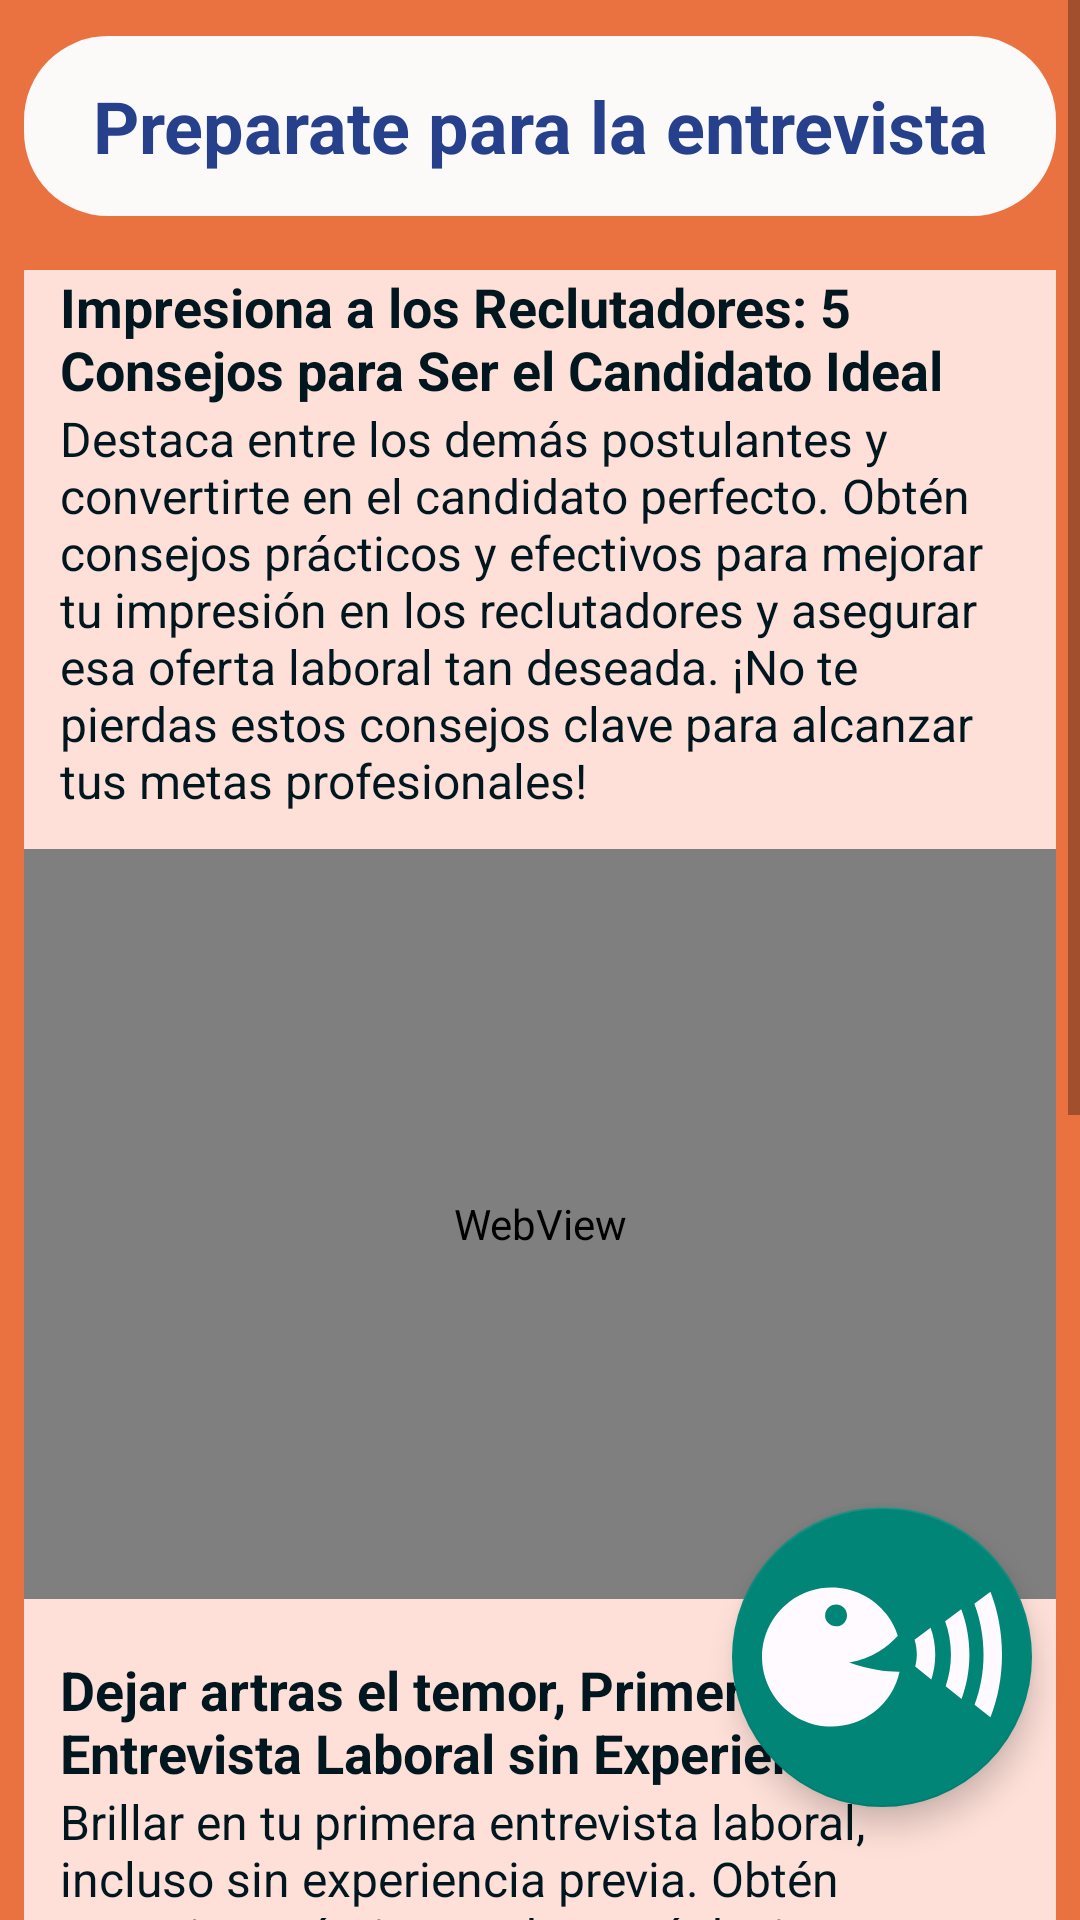

Named icons in this screenshot (1080 x 1920) and their centers, [x,y]:
Activar comandos de voz: [882,1657]
